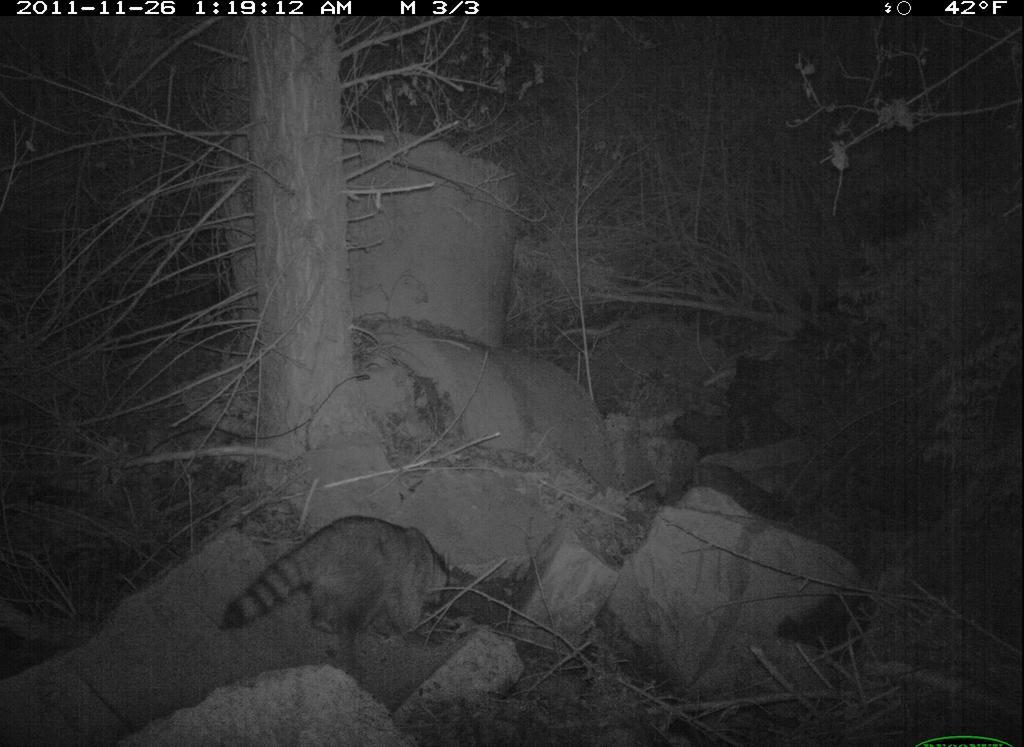raccoon: (220, 514, 462, 660)
